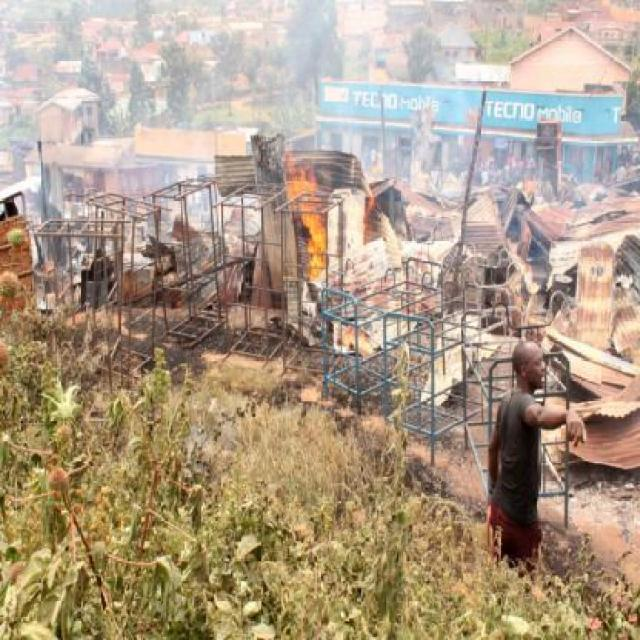Fire: (256, 138, 382, 286)
